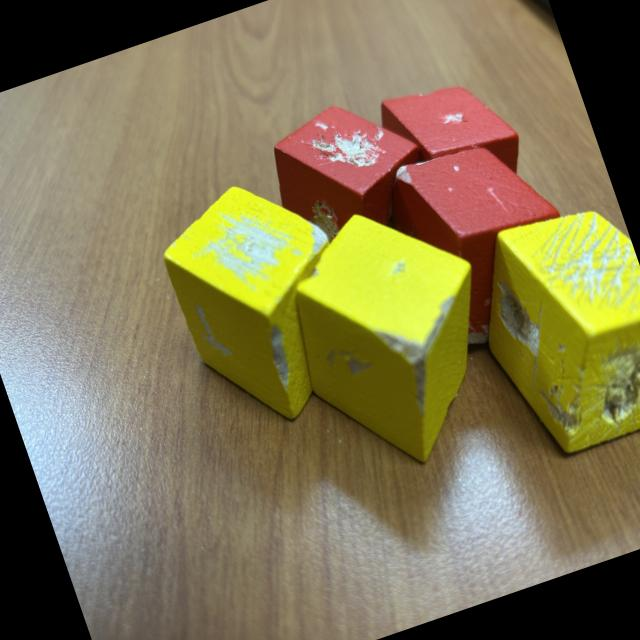broken: (262, 182, 528, 490), (148, 160, 380, 444), (373, 121, 593, 360), (454, 190, 640, 464), (254, 85, 446, 284), (365, 63, 539, 242)
